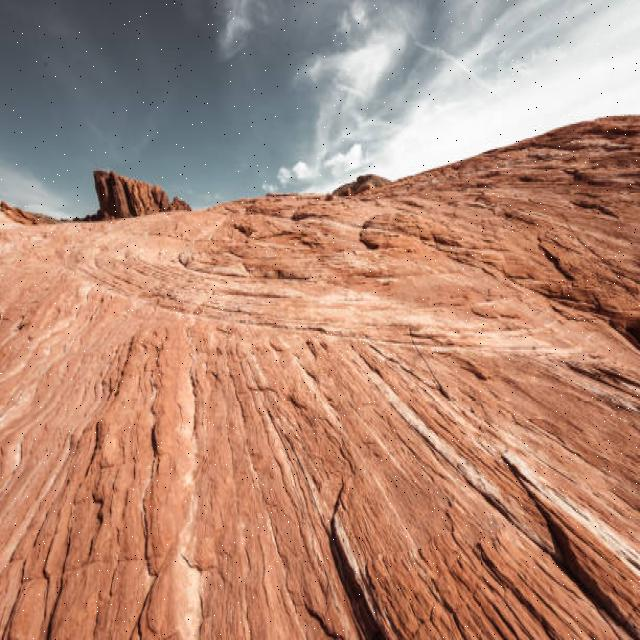Sedimentary: (1, 164, 639, 640)
